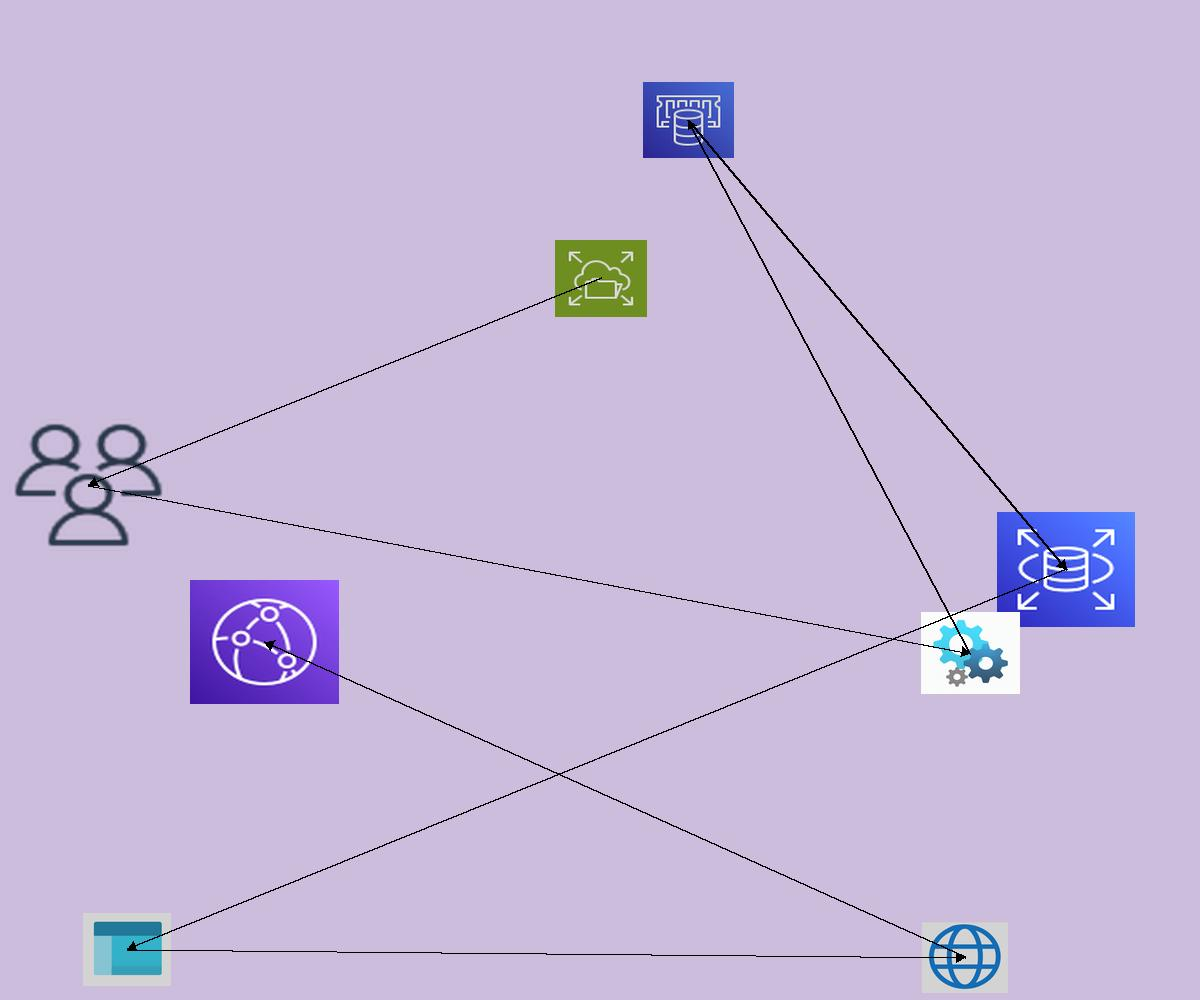AWS-CloudFront: (190, 580, 339, 704)
AWS-EFS: (555, 240, 647, 317)
AWS-ElastiCache: (643, 82, 734, 158)
AWS-RDS: (997, 512, 1135, 627)
AWS-Res_Users: (9, 419, 168, 551)
Azure_api: (921, 612, 1020, 694)
Azure_http: (922, 922, 1008, 993)
Azure_management-portal: (83, 913, 171, 986)
